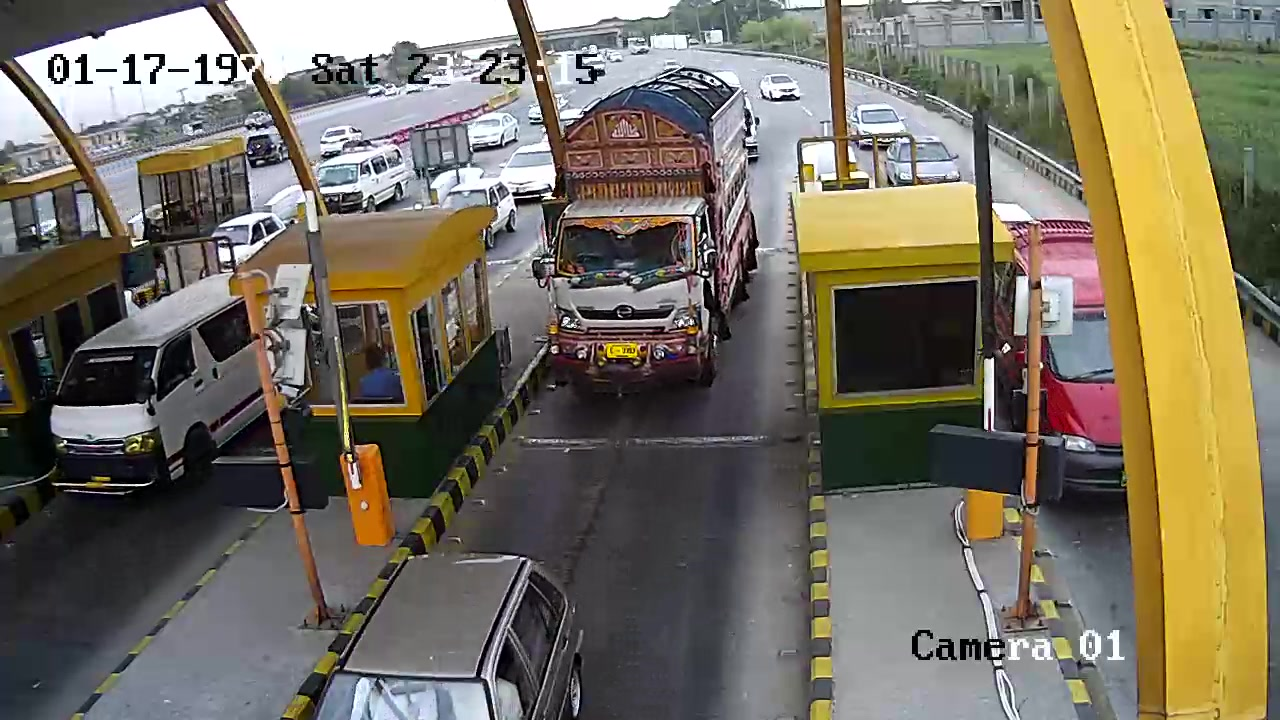F5: (534, 69, 754, 411)
